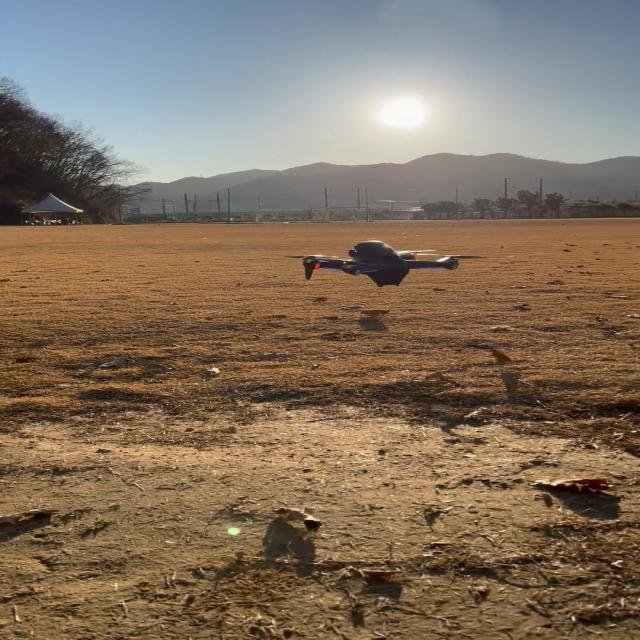Drone: (305, 241, 457, 287)
